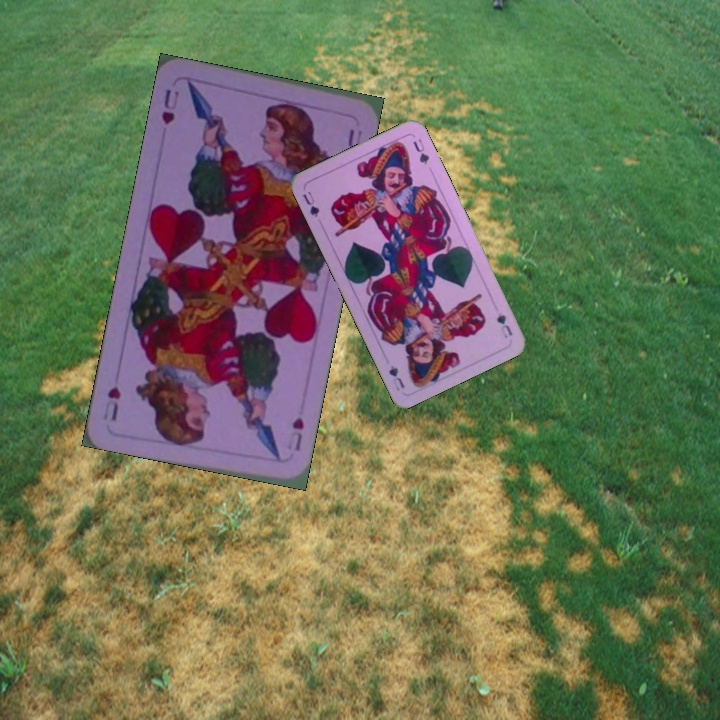GU: (299, 187, 322, 220), (492, 309, 515, 341)
HU: (157, 85, 182, 127), (283, 413, 307, 454)
